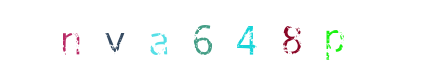4: (178, 0, 258, 80)
6: (177, 0, 257, 80)
8: (200, 0, 280, 80)
A: (172, 0, 252, 80)
N: (127, 0, 207, 80)
P: (292, 0, 372, 80)
V: (151, 0, 231, 80)
